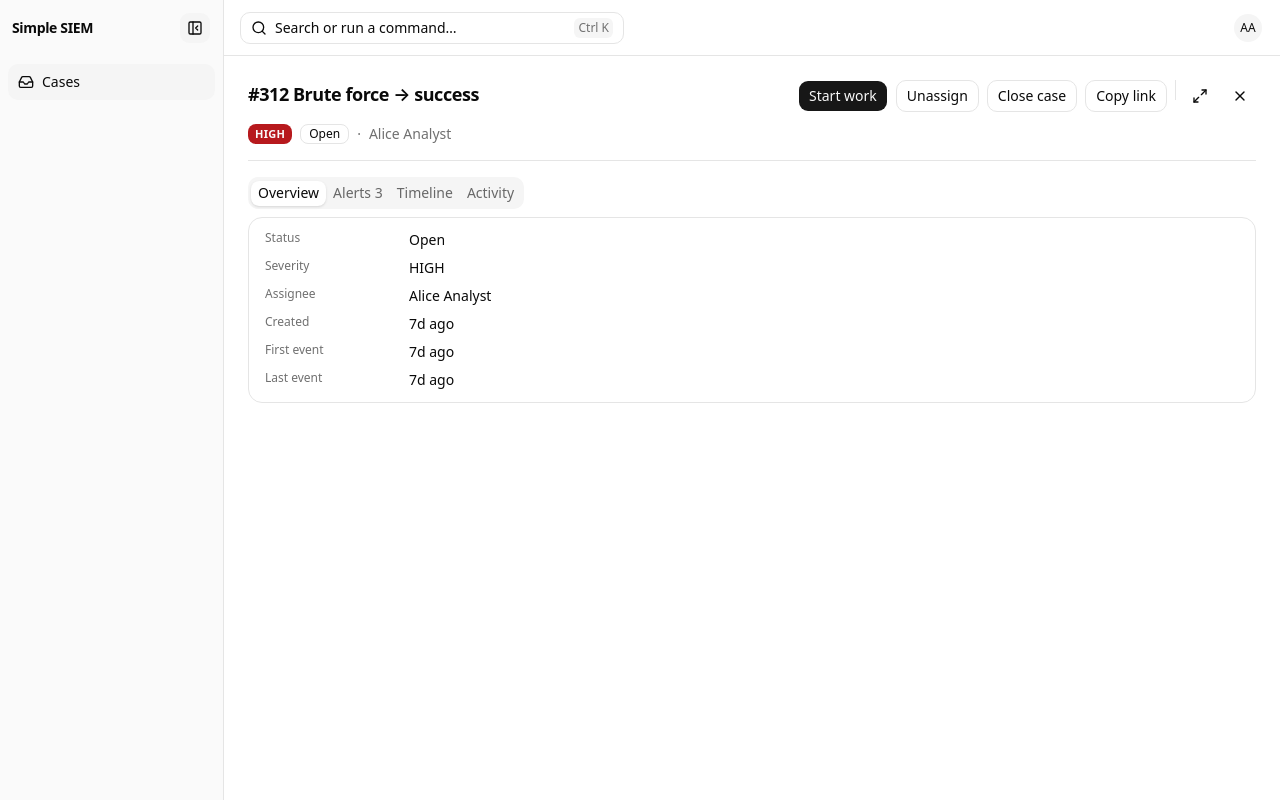
assign to me › disables Start work and Unassign while assigning
This screenshot has width=1280, height=800.
Click the button "Start work" at {"x": 843, "y": 96}, box [798,80,888,112]
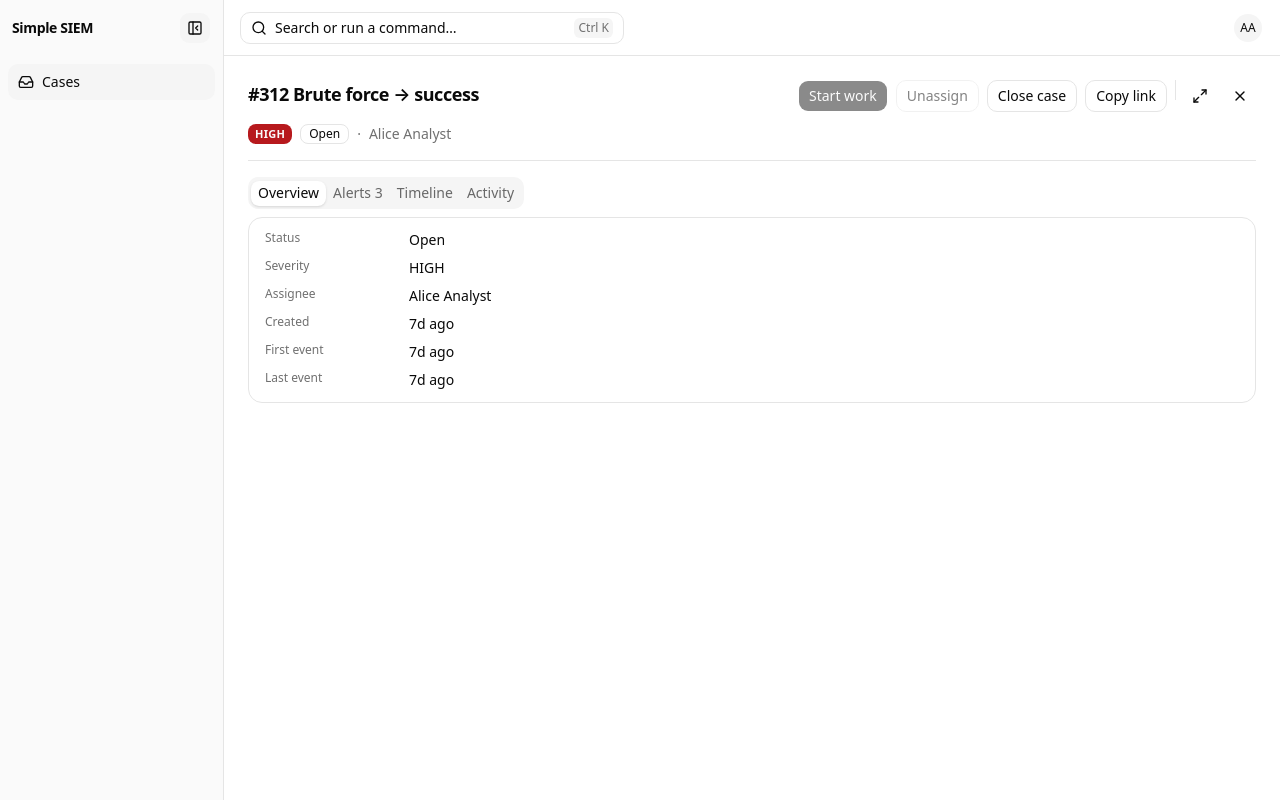
Now the button "Start work" is disabled, box [798,80,888,112]
Now the button "Unassign" is disabled, box [896,80,979,112]
